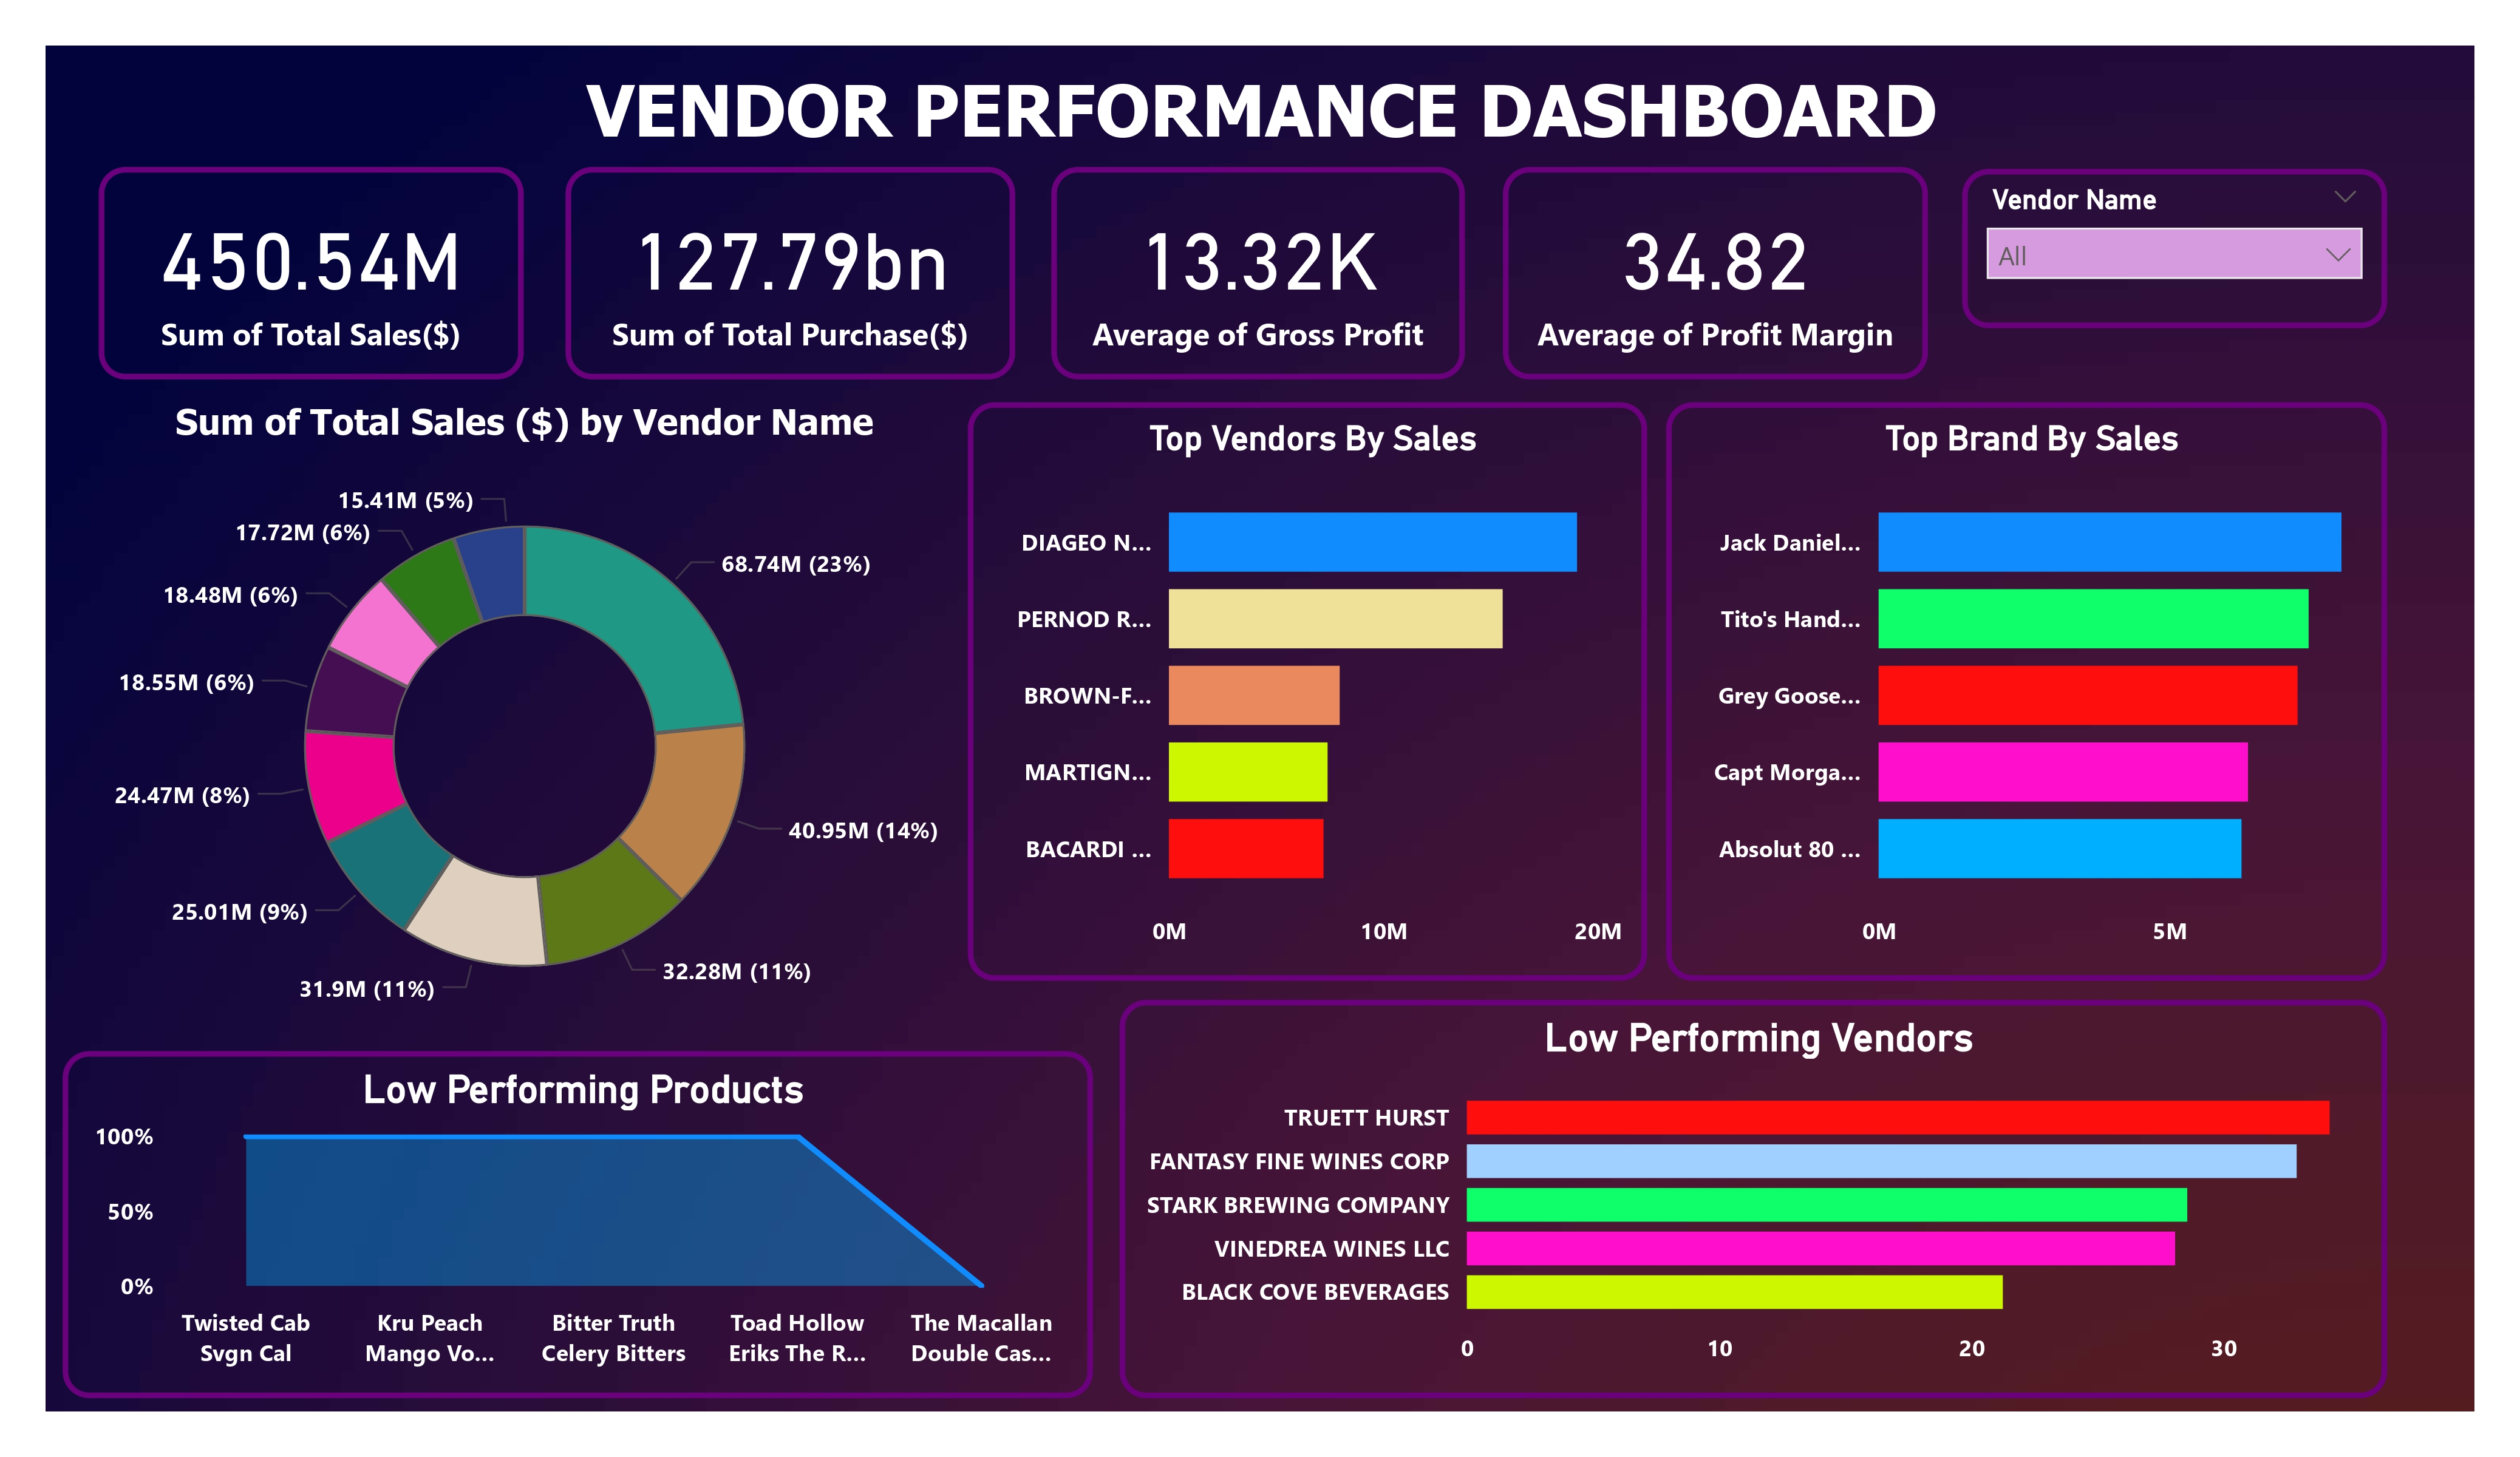

Layout of this report page (visuals, bound fields, positions):
{"tool":"powerbi","page":{"name":"Page 1","canvas":[1280,720],"ordinal":0},"visuals":[{"type":"textbox","box":[175.9,6.1,929.6,58.6],"z":0},{"type":"card","fields":{"Values":["final_data.TotalSalesDollars"]},"box":[27.6,64,224.1,112],"z":1000},{"type":"card","fields":{"Values":["final_data.GrossProfit"]},"box":[529.6,64,218.2,112],"z":2000},{"type":"card","fields":{"Values":["final_data.TotalPurchaseDollars"]},"box":[273.5,64,237.1,112],"z":3000},{"type":"card","fields":{"Values":["final_data.ProfitMargin"]},"box":[768.2,64,224.1,112],"z":4000},{"type":"donutChart","title":"Sum of Total Sales ($) by Vendor Name","fields":{"Category":["final_data.VendorName"],"Y":["final_data.TotalSalesDollars"]},"box":[8.7,186.2,487.4,344.8],"z":5000},{"type":"barChart","title":"Top Brand By Sales","fields":{"Category":["final_data.Description"],"Y":["final_data.TotalSalesDollars"]},"box":[854,187.7,379.7,305.5],"z":6000},{"type":"barChart","title":"Top Vendors By Sales","fields":{"Y":["final_data.TotalSalesDollars"],"Category":["final_data.VendorName"]},"box":[485.9,187.7,357.9,305.5],"z":7000},{"type":"barChart","title":"Low Performing Vendors","fields":{"Category":["final_data.VendorName"],"Y":["final_data.ProfitMargin"]},"box":[565.6,503.3,668.2,210.1],"z":8000},{"type":"hundredPercentStackedAreaChart","title":"Low Performing Products","fields":{"Category":["final_data.Description"],"Y":["final_data.ProfitMargin"]},"box":[8.6,530.2,543.6,183.2],"z":9000},{"type":"slicer","fields":{"Values":["final_data.VendorName"]},"box":[1010.3,64.7,223.6,84.3],"z":10000}]}

Visuals, with their boxes on the page's 1280x720 design canvas (x1, y1, x2, y2). These are canvas units, not pixel positions in the 2520x1457 screenshot, which may show the page scaled, cropped or inside an application window:
textbox: Rect(176, 6, 1106, 65)
card - final_data.TotalSalesDollars: Rect(28, 64, 252, 176)
card - final_data.GrossProfit: Rect(530, 64, 748, 176)
card - final_data.TotalPurchaseDollars: Rect(274, 64, 511, 176)
card - final_data.ProfitMargin: Rect(768, 64, 992, 176)
"Sum of Total Sales ($) by Vendor Name" donutChart: Rect(9, 186, 496, 531)
"Top Brand By Sales" barChart: Rect(854, 188, 1234, 493)
"Top Vendors By Sales" barChart: Rect(486, 188, 844, 493)
"Low Performing Vendors" barChart: Rect(566, 503, 1234, 713)
"Low Performing Products" hundredPercentStackedAreaChart: Rect(9, 530, 552, 713)
slicer - final_data.VendorName: Rect(1010, 65, 1234, 149)
